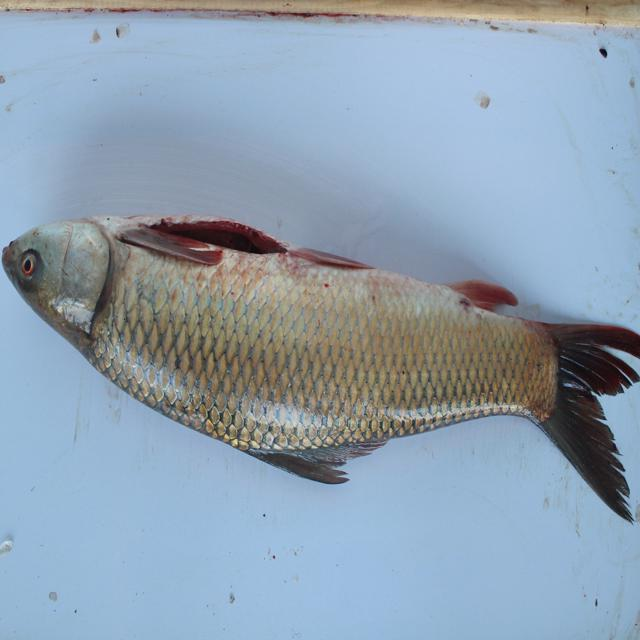Mori: (5, 207, 640, 547)
